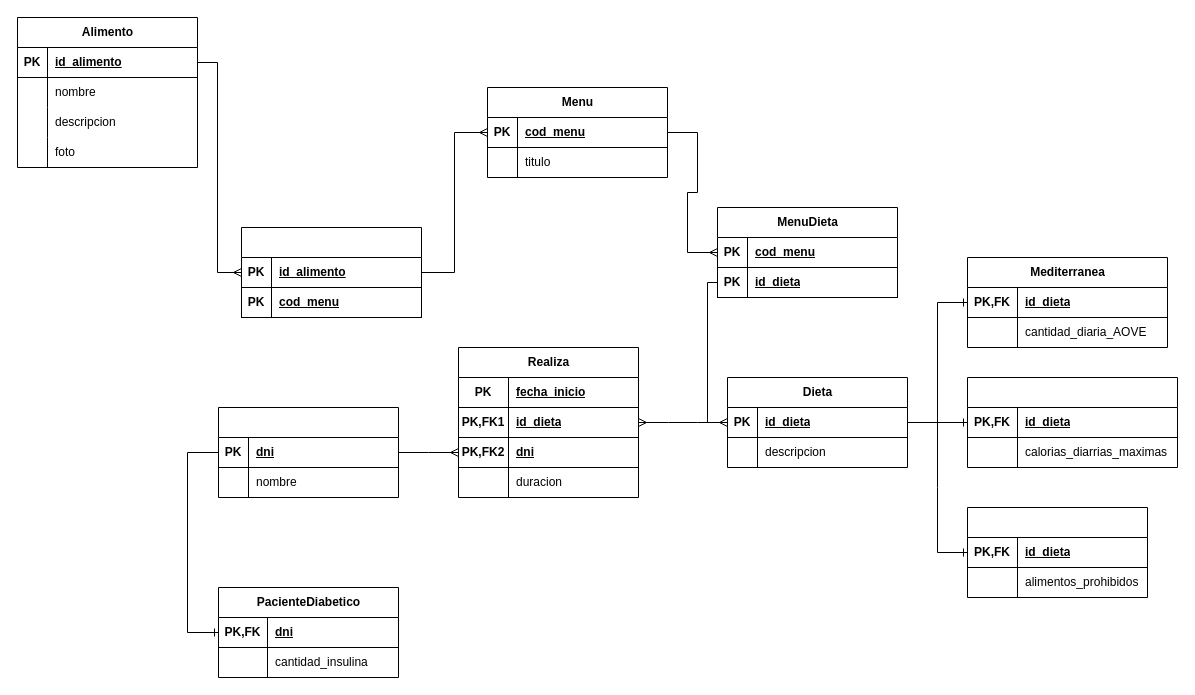
Some shapes in this 1195 by 695 pixel diagram are drawn without their labels. The shapes that lost their labels are listed below. From the top down, each one's box as (x1, y1, x2, y2) in pixels, then its label:
(240, 226, 422, 318): AlimentacionMenu
(966, 376, 1178, 468): Hipocalorica
(218, 406, 398, 498): Paciente
(966, 506, 1148, 598): Vegetariana
